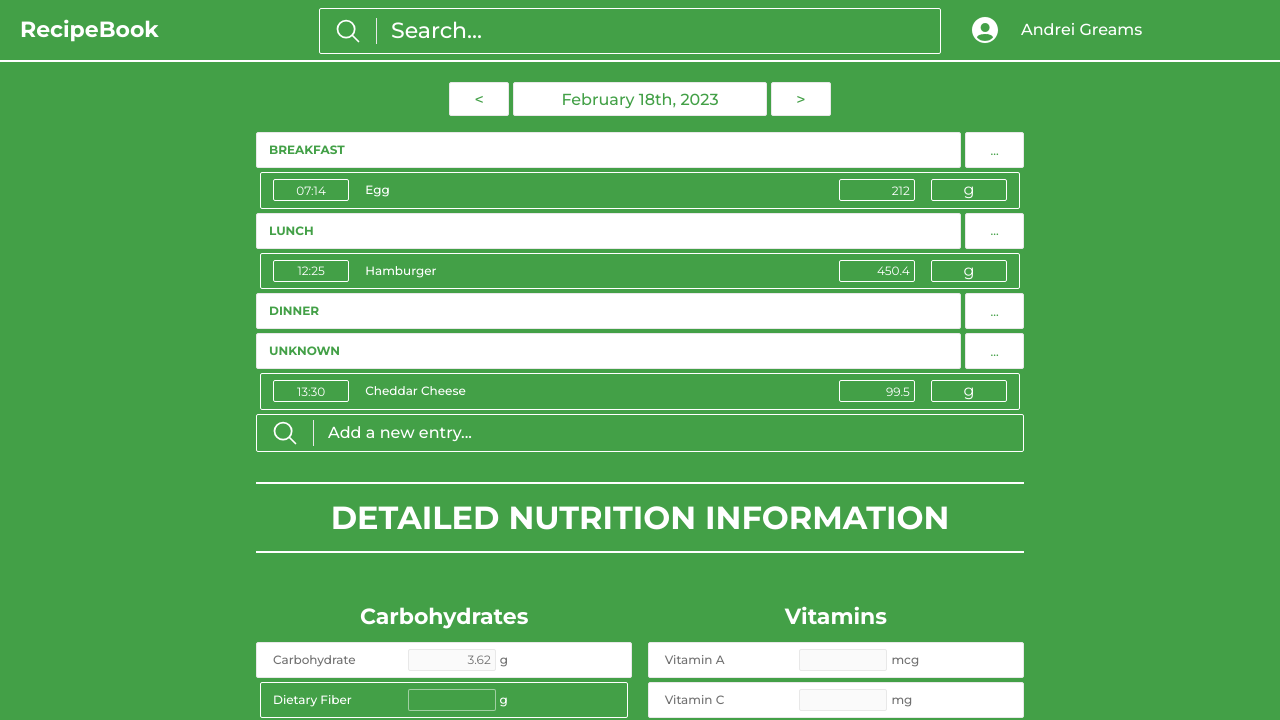
journal_page › page › can change the unit of food in a journal entry
Check: the text "LUNCH" is shown, box [256, 212, 961, 248]
Check: the button "Hamburger" is shown, box [365, 262, 436, 278]
Click the 2nd element with test id "CY_JOURNAL_ENTRY_FOOD_UNIT". click: (969, 271)
box: [931, 260, 1007, 282]
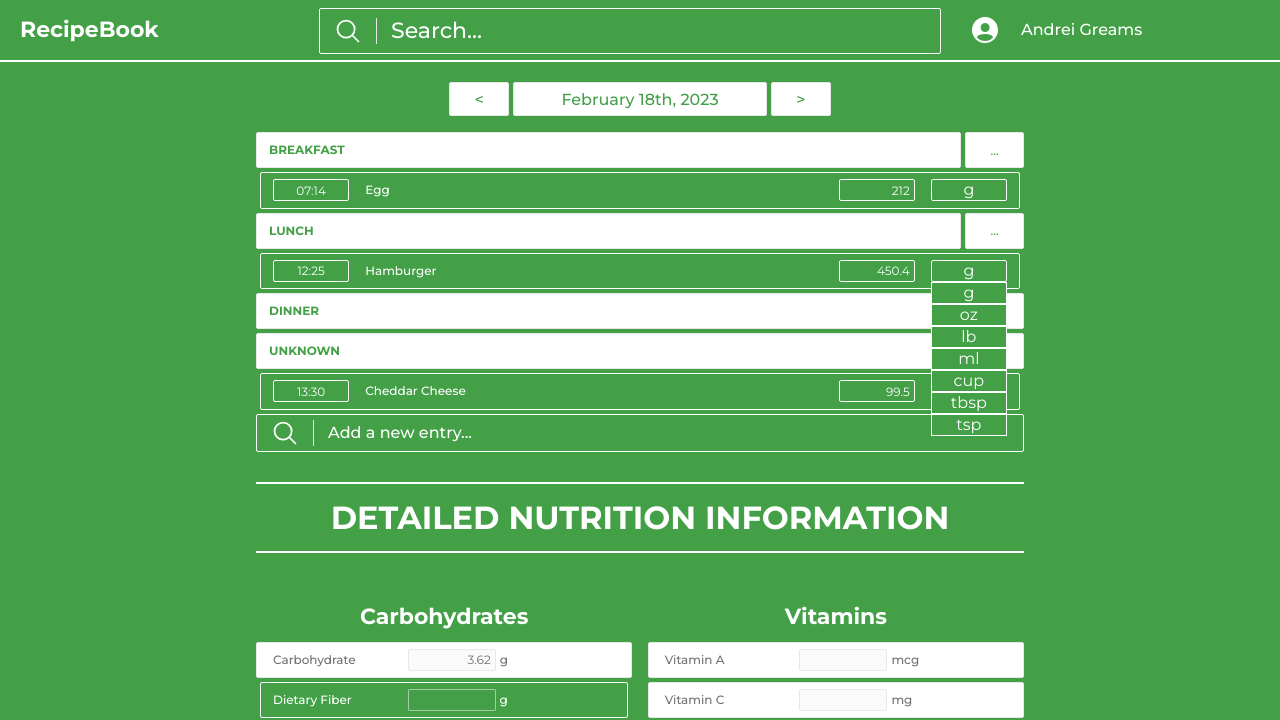
Check: the list item "oz" is shown
Click the list item "oz". click: (969, 315)
box: [931, 304, 1007, 326]
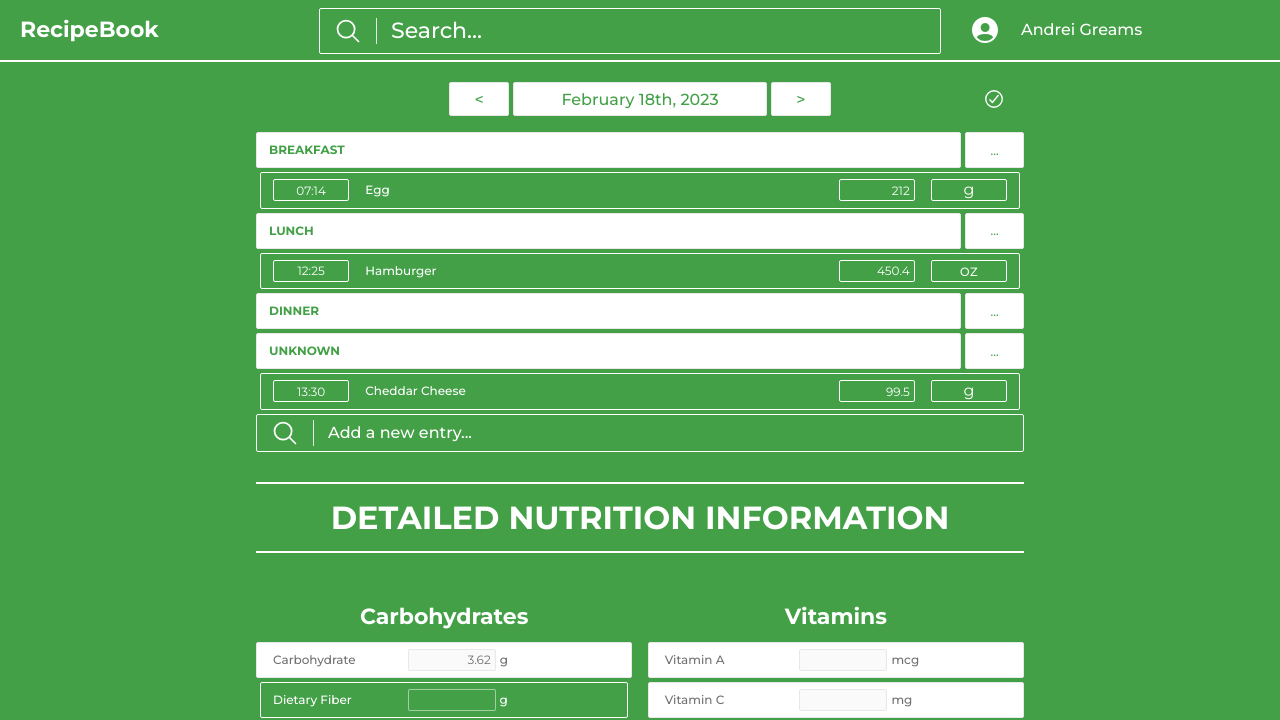
Check: the text with test id "CY_SELECT_INPUT_CURRENT_OPTION" reads "oz", box [931, 260, 1007, 282]
